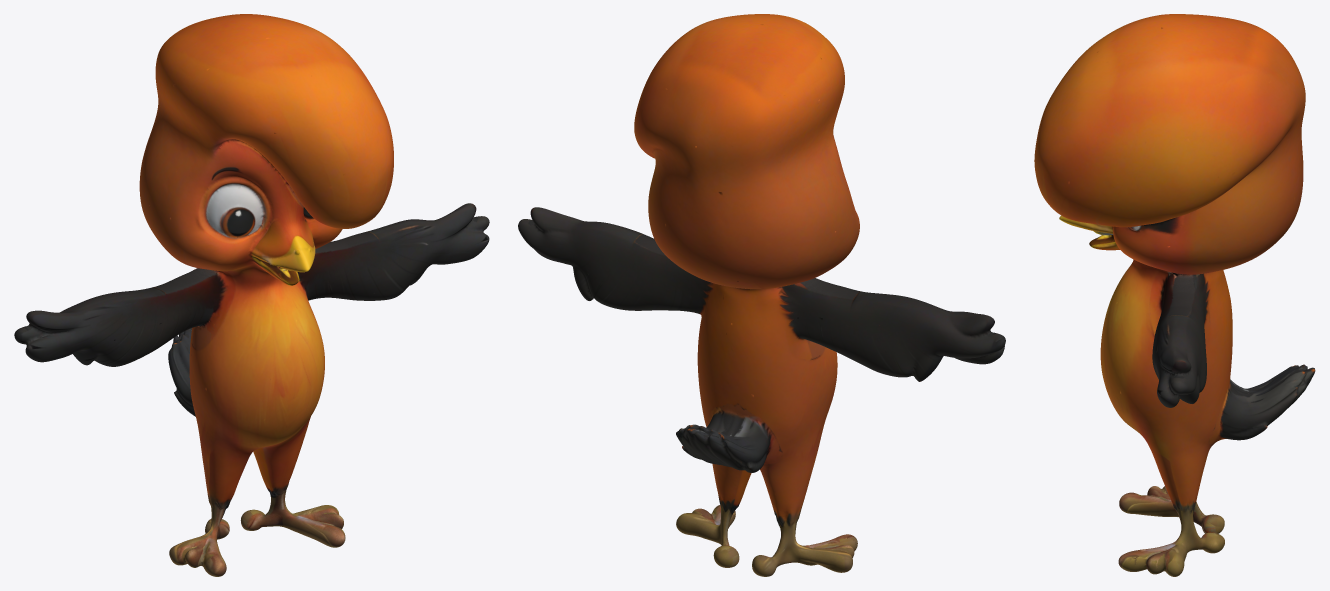
File: GallitoDeLasRocas.glb
The picture shows the model from 3 angles, left to right: view 1: azimuth 30°, elevation 25°; view 2: azimuth 150°, elevation 25°; view 3: azimuth 270°, elevation 25°; orthographic projection. The views are drawn at different scales.
Bounding box in the file's own units: 1.93 × 1.99 × 0.9777.
Materials: 1 (1 with a texture image).
